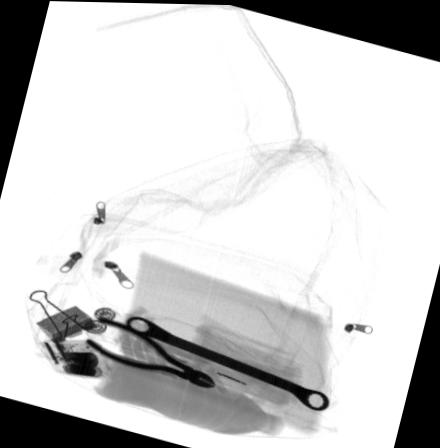Pliers: (81, 314, 215, 388)
Wrench: (122, 313, 330, 410)
